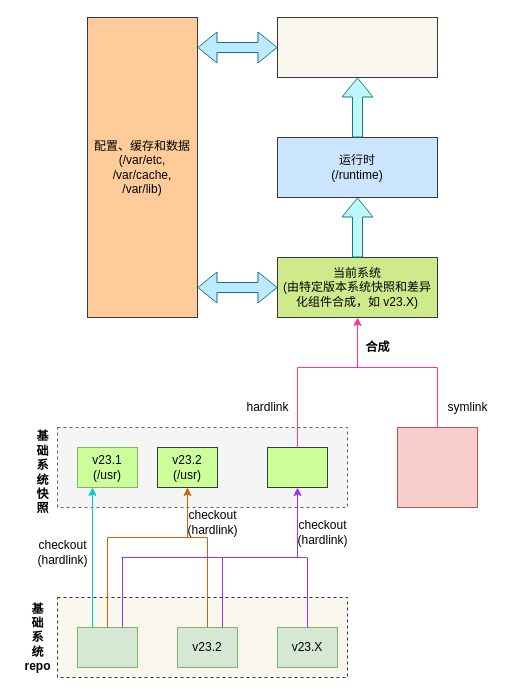
Some shapes in this 514 by 695 pixel diagram are drawn without their labels. Here are the shapes that lost their labels. From the top down, the centre of each, then its label:
pixel 357 47: 应用 (/opt/apps)
pixel 297 467: v23.X (/usr)
pixel 437 467: 差异化组件 (/vendor)
pixel 107 647: v23.1
